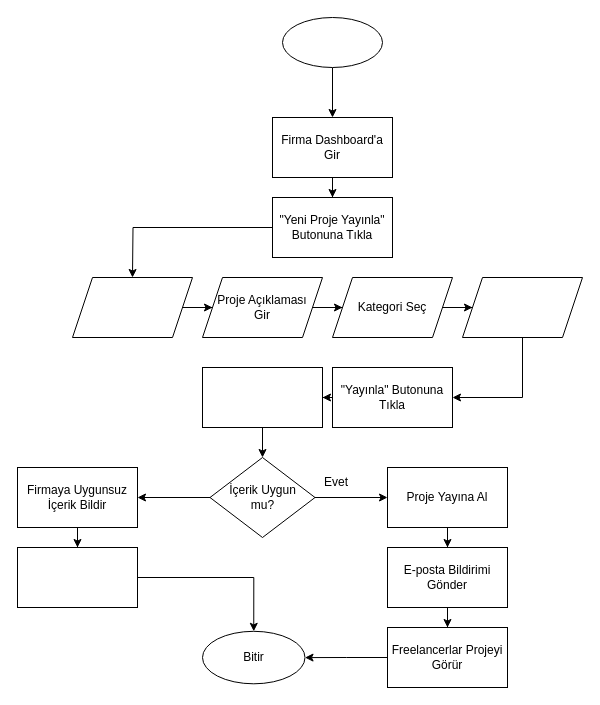
Image size: 600x705. Some labels were removed from this diagram. Here are the shapes that lost their labels. From the top down, the box of each, then its label:
(282, 16, 382, 68): Başla
(72, 276, 192, 338): Proje Başlığı Gir
(462, 276, 582, 338): Teslim Tarihi Gir
(202, 366, 322, 428): Otomatik İçerik Kontrolü
(16, 546, 138, 608): Düzenleme için Firmaya Geri Dön
